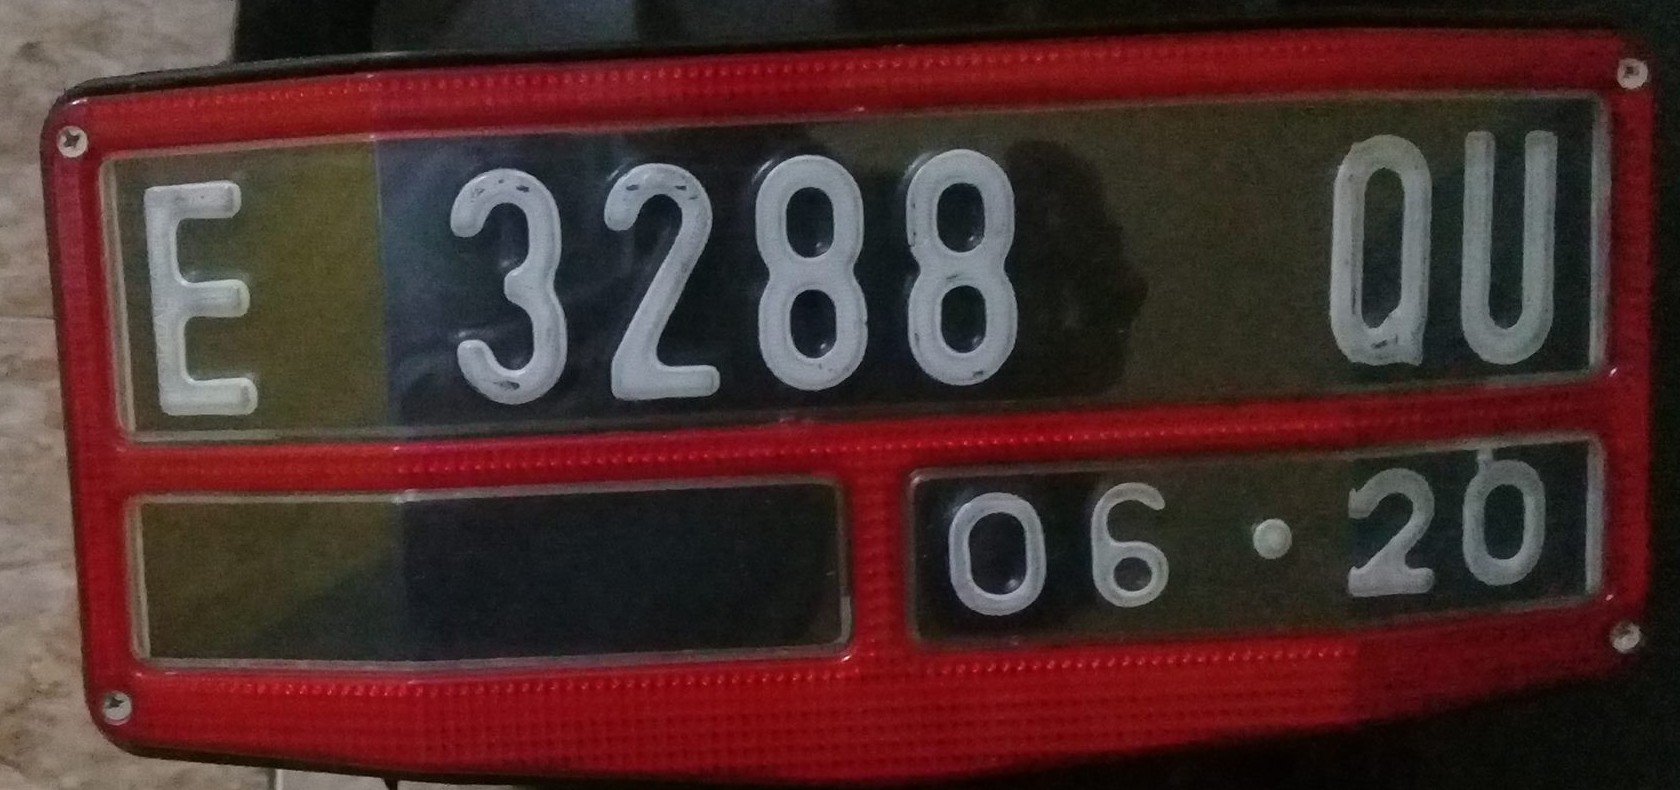plate: (102, 90, 1617, 643)
